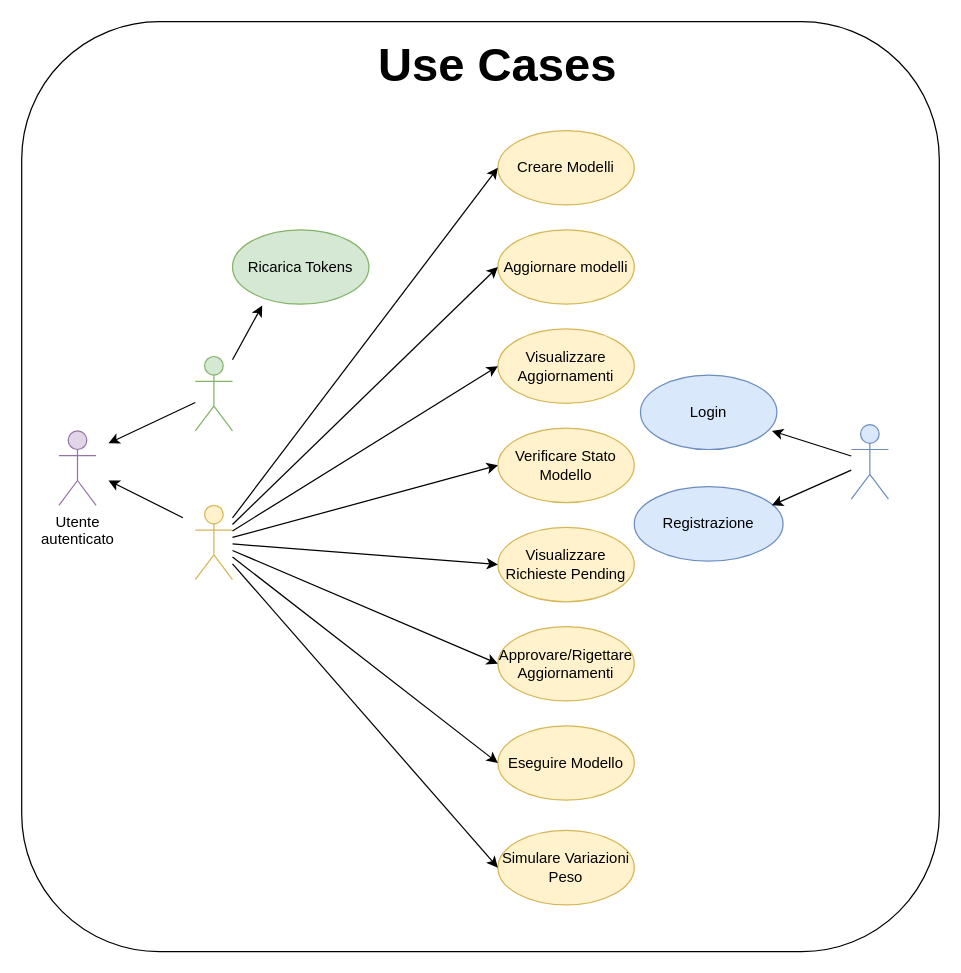
Some shapes in this 961 by 973 pixel diagram are drawn without their labels. Here are the shapes that lost their labels. From the top down, the centre of each, then its label:
At (x=213, y=393): "Admin".
At (x=869, y=461): "Utente Non Autenticato".
At (x=213, y=542): "Utente".
